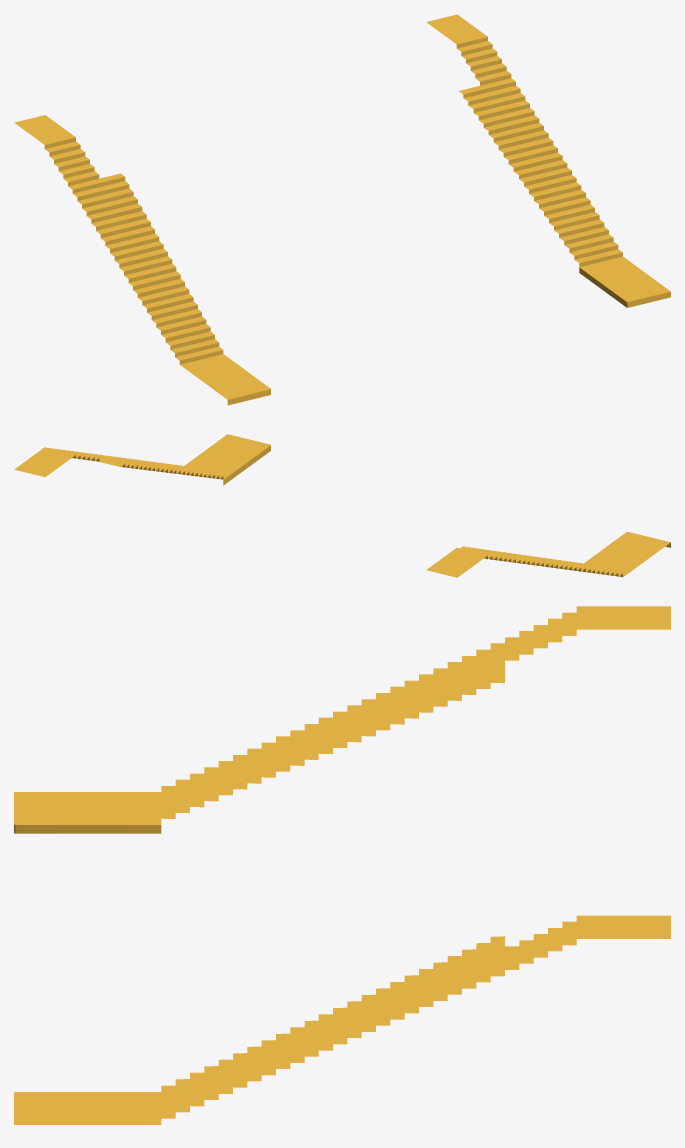
Rendered from Steps_Floor.FBX.
3 views of the same model, one above another, from view 1: azimuth 30°, elevation 25°; view 2: azimuth 150°, elevation 25°; view 3: azimuth 270°, elevation 25° (orthographic). The views are drawn at different scales.
Visible parts, largest first — view 1: Steps_Floor; view 2: Steps_Floor; view 3: Steps_Floor.
Boxes of the visible parts, left/top/right/bottom form: Steps_Floor: left=14, top=14, right=670, bottom=405; Steps_Floor: left=14, top=434, right=670, bottom=577; Steps_Floor: left=14, top=606, right=670, bottom=1124.
Size of the model in its own units: 27280 by 7442 by 22766.
